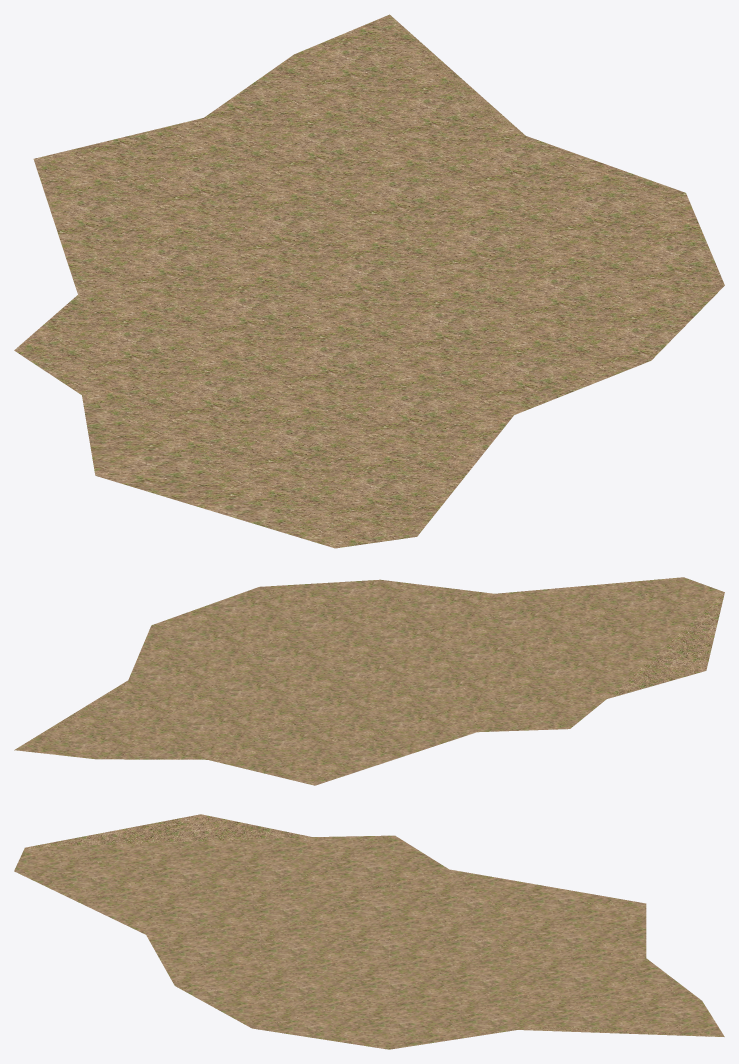
Rendered from caminoC.obj.
3 views of the same model, one above another, from view 1: azimuth 30°, elevation 25°; view 2: azimuth 150°, elevation 25°; view 3: azimuth 270°, elevation 25° (orthographic). The views are drawn at different scales.
Parts seen in each view (by area): view 1: Plano.003; view 2: Plano.003; view 3: Plano.003.
Boxes of the visible parts, left/top/right/bottom form: Plano.003: left=14, top=14, right=724, bottom=548; Plano.003: left=14, top=577, right=724, bottom=785; Plano.003: left=14, top=814, right=724, bottom=1049.
Bounding box in the file's own units: 68.88 × 0.1764 × 88.33.
Materials: 1 (1 with a texture image).
